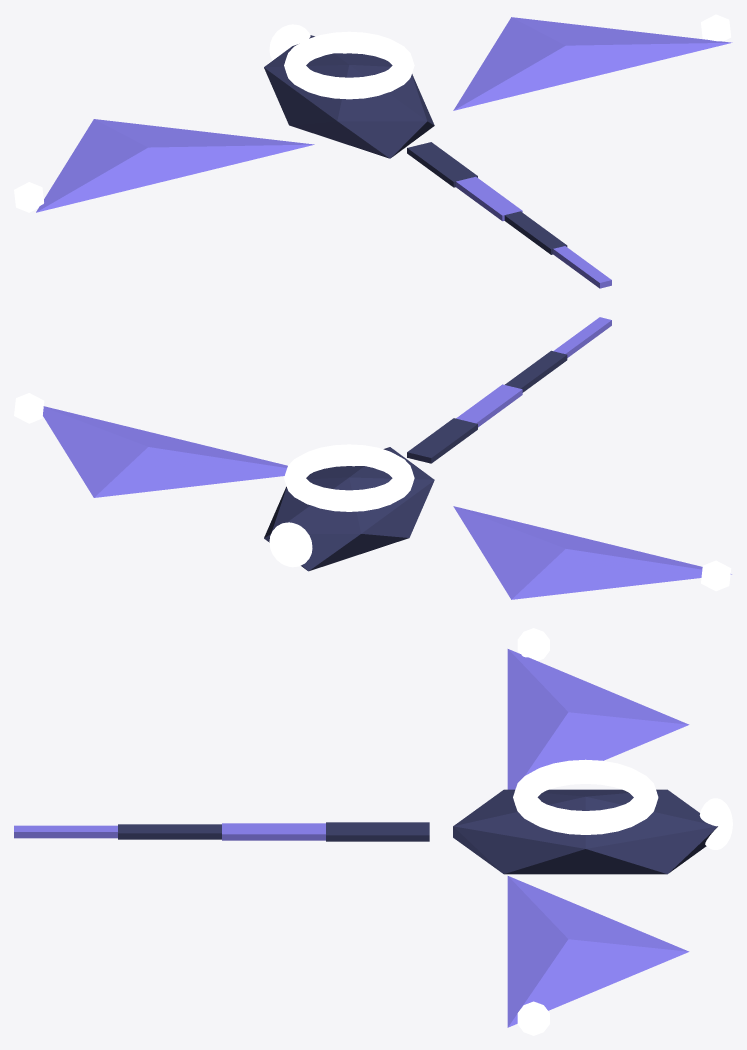
File: enemy_kite.glb
3 renders of one model, top to bottom at view 1: azimuth 30°, elevation 25°; view 2: azimuth 150°, elevation 25°; view 3: azimuth 270°, elevation 25°, orthographic. The views are drawn at different scales.
Parts seen in each view (by area): view 1: WingR, WingL, Torso, Coil, Tail0, Tail1, Tail2, Tail3, Eye, WingTipL, WingTipR; view 2: WingL, WingR, Torso, Coil, Tail0, Eye, Tail1, Tail2, Tail3, WingTipR, WingTipL; view 3: Torso, WingR, WingL, Coil, Tail0, Tail1, Tail2, Tail3, Eye, WingTipR, WingTipL.
Part boxes in pixels (box(x1,y1,x2,y2)): WingR: box(453, 17, 732, 110); WingL: box(36, 119, 314, 212); Torso: box(264, 35, 434, 158); Coil: box(284, 31, 414, 99); Tail0: box(407, 142, 477, 187); Tail1: box(456, 176, 522, 221); Tail2: box(504, 211, 567, 254); Tail3: box(553, 246, 611, 288); Eye: box(269, 24, 310, 60); WingTipL: box(14, 182, 43, 212); WingTipR: box(701, 14, 730, 41); WingL: box(453, 506, 731, 599); WingR: box(43, 406, 287, 497); Torso: box(264, 447, 434, 571); Coil: box(284, 444, 414, 511); Tail0: box(407, 418, 477, 463); Eye: box(269, 522, 312, 567); Tail1: box(456, 384, 522, 427); Tail2: box(505, 350, 567, 392); Tail3: box(553, 317, 611, 357); WingTipR: box(14, 393, 44, 423); WingTipL: box(701, 560, 731, 591); Torso: box(453, 789, 717, 874); WingR: box(507, 876, 689, 1027); WingL: box(507, 649, 689, 789); Coil: box(513, 759, 658, 834); Tail0: box(326, 822, 429, 841); Tail1: box(222, 823, 325, 840); Tail2: box(118, 824, 221, 839); Tail3: box(14, 825, 117, 838); Eye: box(699, 798, 732, 849); WingTipR: box(517, 1001, 549, 1035); WingTipL: box(517, 628, 549, 660).
Size of the model in its own units: 5.3 by 0.5116 by 4.15.
